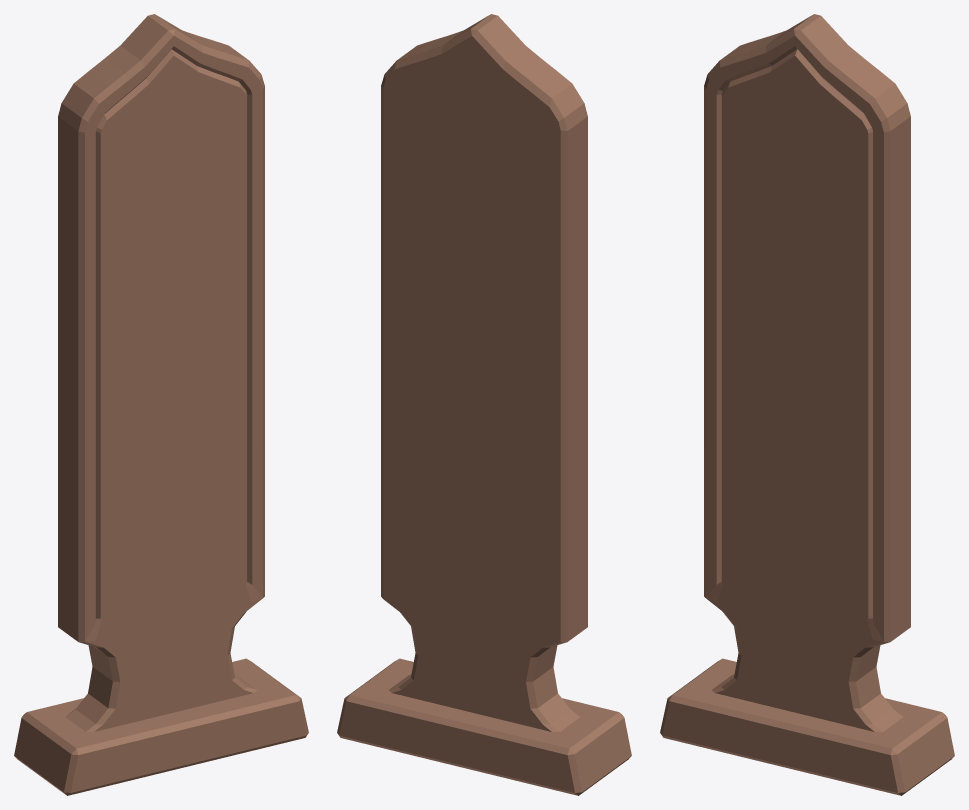
Rendered from fbx_Tablet_02.fbx.
The picture shows the model from 3 angles, left to right: view 1: azimuth 30°, elevation 25°; view 2: azimuth 150°, elevation 25°; view 3: azimuth 330°, elevation 25°; orthographic projection.
Visible parts, largest first — view 1: Cube.001; view 2: Cube.001; view 3: Cube.001.
Part boxes in pixels (<box>): Cube.001: <box>14,14,308,795</box>; Cube.001: <box>337,14,631,795</box>; Cube.001: <box>660,14,954,795</box>.
Bounding box in the file's own units: 118 × 335 × 45.9.
